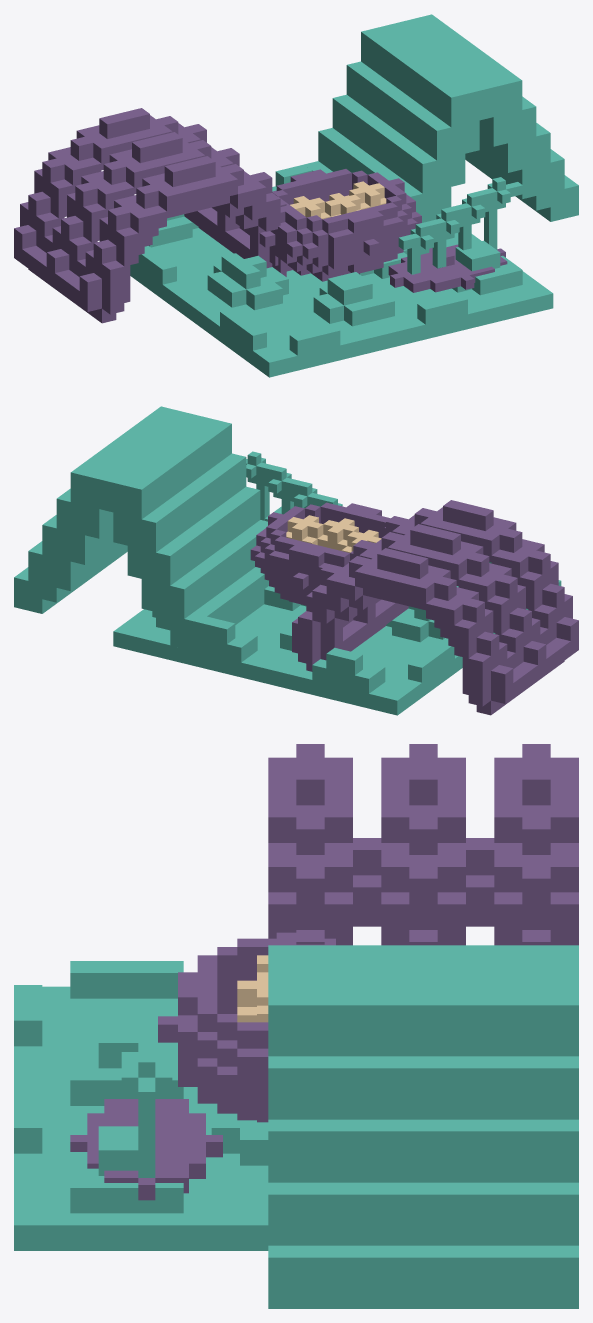
The model's file is alien-biosphere-brood-hollow-2f36c330__22836.glb.
3 renders of one model, top to bottom at view 1: azimuth 30°, elevation 25°; view 2: azimuth 150°, elevation 25°; view 3: azimuth 270°, elevation 25°, orthographic. The views are drawn at different scales.
Parts seen in each view (by area): view 1: 001-root-den/0, 000-moss-tile/0, 003-leaf-tent/0, 002-egg-basin/0, 004-germination-colony/1, 004-germination-colony/0, 002-egg-basin/1; view 2: 003-leaf-tent/0, 001-root-den/0, 000-moss-tile/0, 002-egg-basin/0, 004-germination-colony/1, 002-egg-basin/1; view 3: 003-leaf-tent/0, 001-root-den/0, 000-moss-tile/0, 002-egg-basin/0, 004-germination-colony/0, 004-germination-colony/1, 002-egg-basin/1.
Part boxes in pixels (x1,y1,x2,y2): 001-root-den/0: [14, 108, 293, 323]; 000-moss-tile/0: [130, 164, 553, 377]; 003-leaf-tent/0: [304, 14, 578, 222]; 002-egg-basin/0: [259, 169, 421, 281]; 004-germination-colony/1: [398, 177, 522, 274]; 004-germination-colony/0: [388, 244, 507, 292]; 002-egg-basin/1: [290, 181, 386, 219]; 003-leaf-tent/0: [14, 406, 268, 651]; 001-root-den/0: [292, 500, 578, 715]; 000-moss-tile/0: [113, 506, 561, 715]; 002-egg-basin/0: [250, 502, 390, 605]; 004-germination-colony/1: [246, 451, 342, 520]; 002-egg-basin/1: [286, 515, 381, 552]; 003-leaf-tent/0: [268, 945, 578, 1308]; 001-root-den/0: [268, 744, 578, 945]; 000-moss-tile/0: [14, 961, 268, 1250]; 002-egg-basin/0: [158, 932, 335, 1122]; 004-germination-colony/0: [70, 1099, 222, 1200]; 004-germination-colony/1: [121, 1036, 172, 1177]; 002-egg-basin/1: [237, 955, 268, 1022].
Size of the model in its own units: 6.8 by 2.2 by 4.
